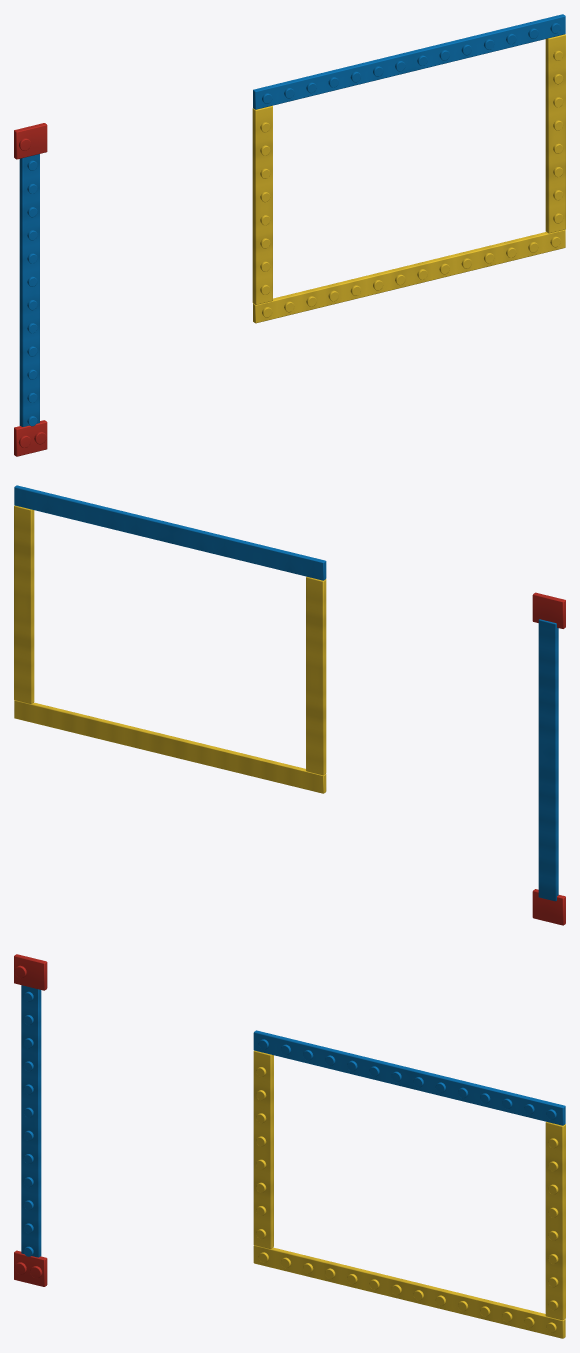
The model's file is 13-toy-brick-trims-and-join-tape-1.fbx.
3 views of the same model, one above another, from view 1: azimuth 30°, elevation 25°; view 2: azimuth 150°, elevation 25°; view 3: azimuth 330°, elevation 25° (orthographic).
Visible parts, largest first — view 1: toy-brick-trims-and-join-tape-1; view 2: toy-brick-trims-and-join-tape-1; view 3: toy-brick-trims-and-join-tape-1.
Boxes of the visible parts, x1=… form: toy-brick-trims-and-join-tape-1: x1=14, y1=14, x2=565, y2=456; toy-brick-trims-and-join-tape-1: x1=14, y1=485, x2=565, y2=925; toy-brick-trims-and-join-tape-1: x1=14, y1=954, x2=565, y2=1338.
Bounding box in the file's own units: 12400 × 7000 × 208.
1 material, 1 textured.
